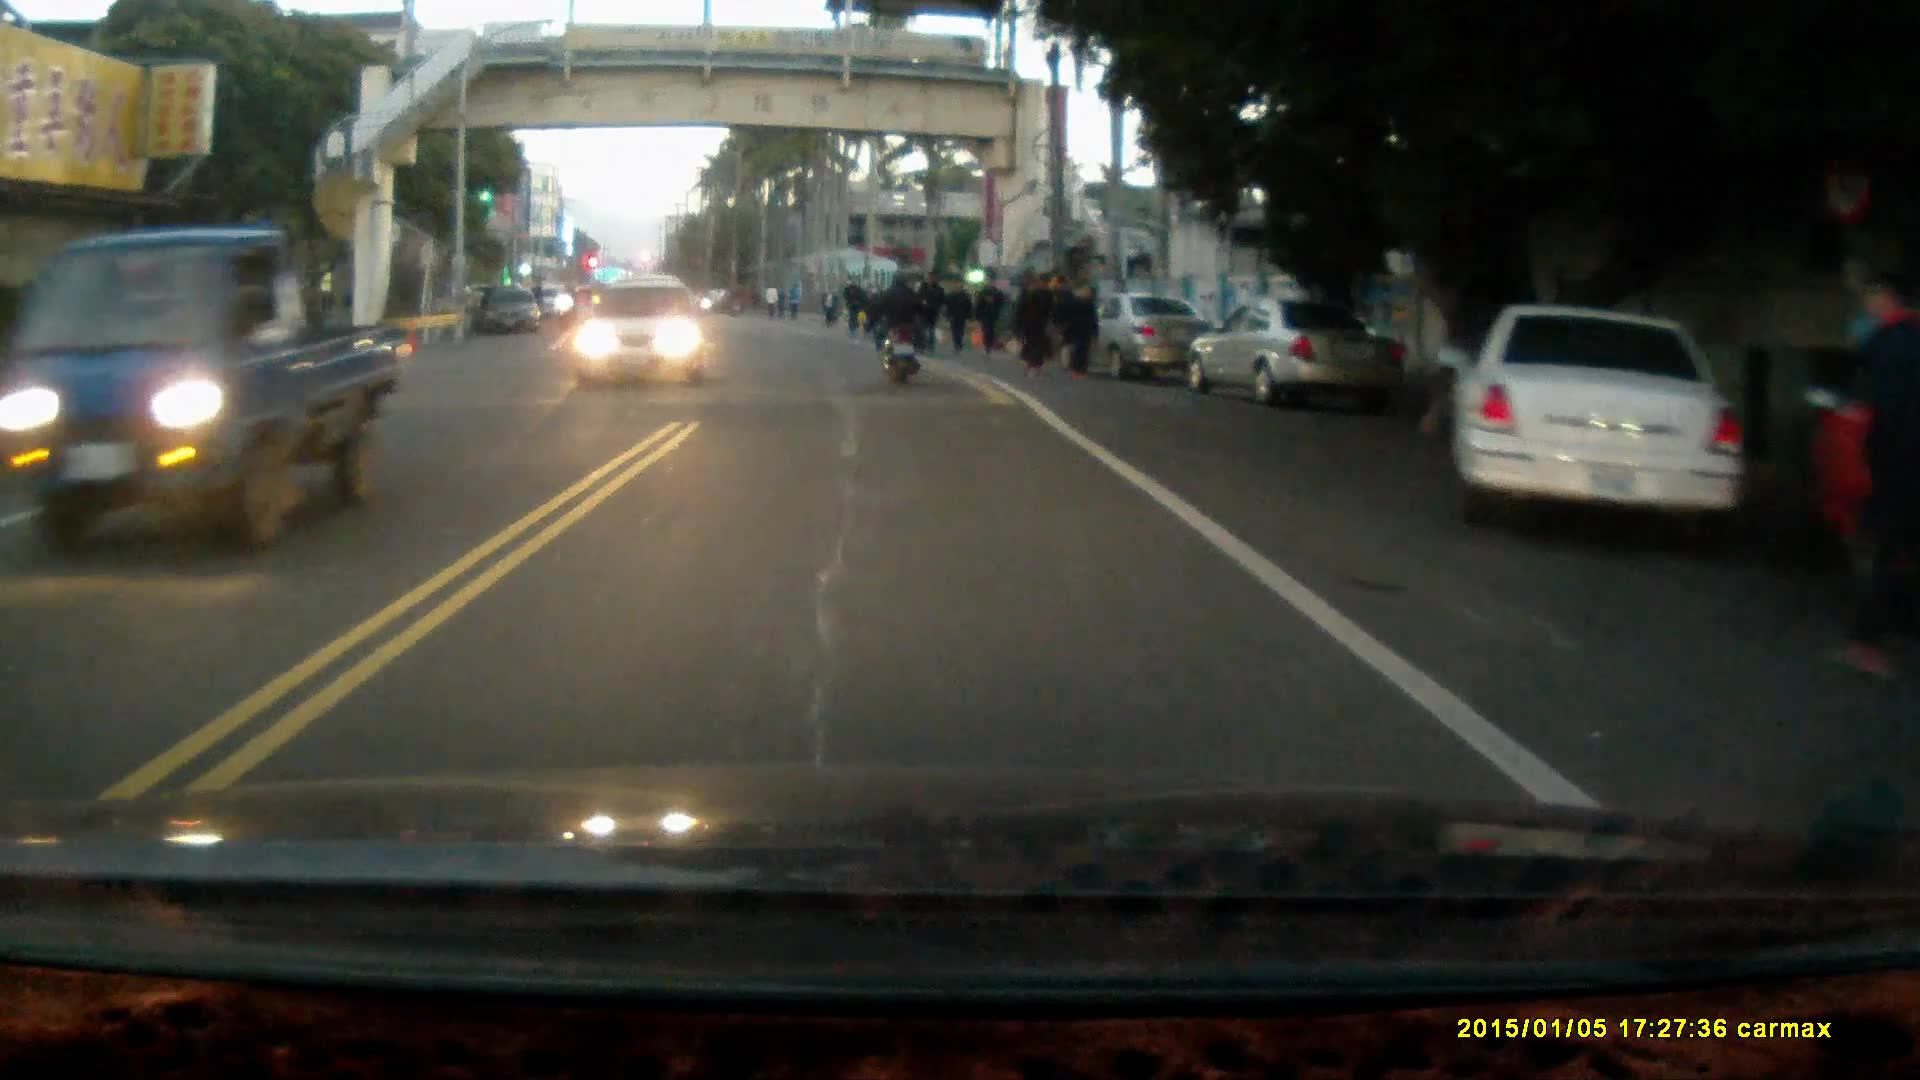pedestrian: (1837, 269, 1920, 693), (1012, 273, 1045, 377), (1032, 271, 1063, 371), (1066, 283, 1099, 374), (972, 268, 1004, 360), (943, 277, 976, 358)
rider: (868, 272, 923, 391)
vehicle: (25, 224, 399, 569), (1443, 304, 1779, 556), (1192, 297, 1402, 412), (574, 279, 710, 389), (1092, 294, 1221, 388)
